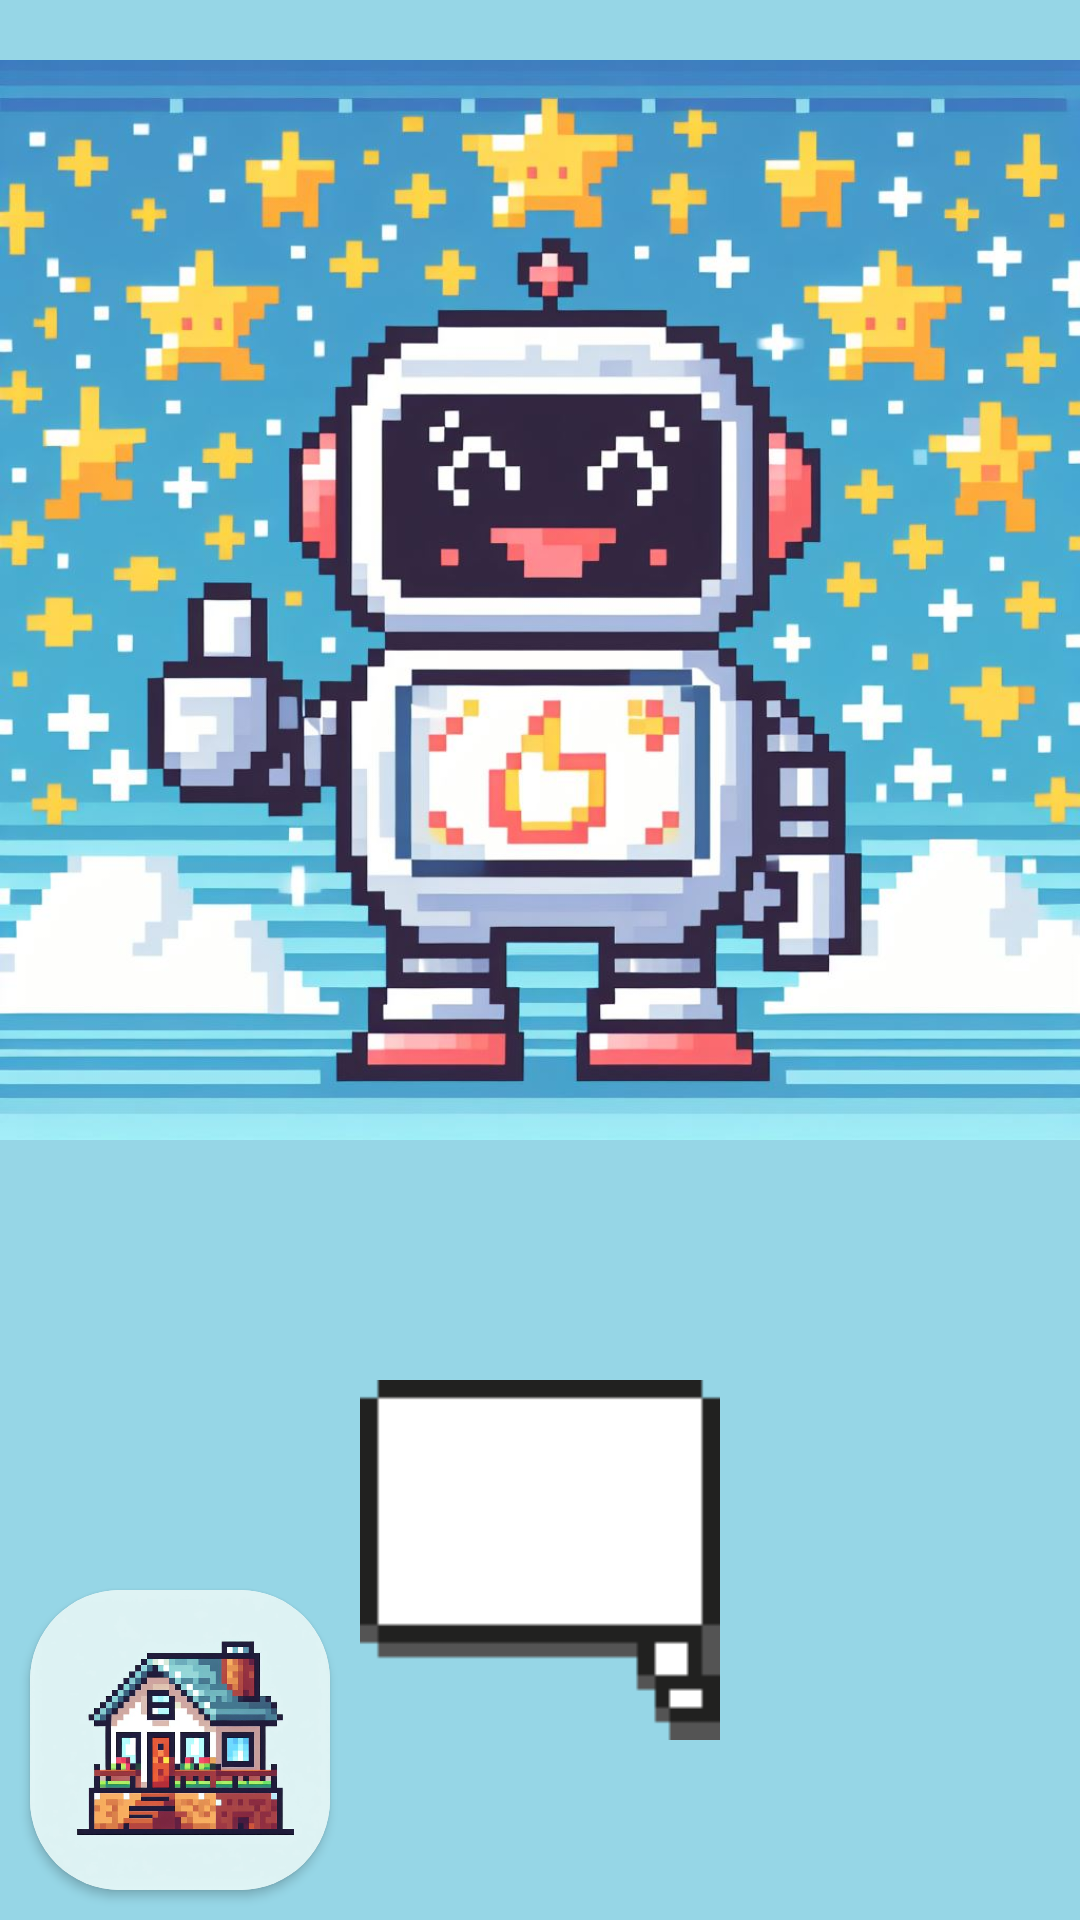

Icons on this 1080px×1920px Android screen, each with the point to tap as [x,y]:
bubble: [540,1560]
home: [180,1740]
